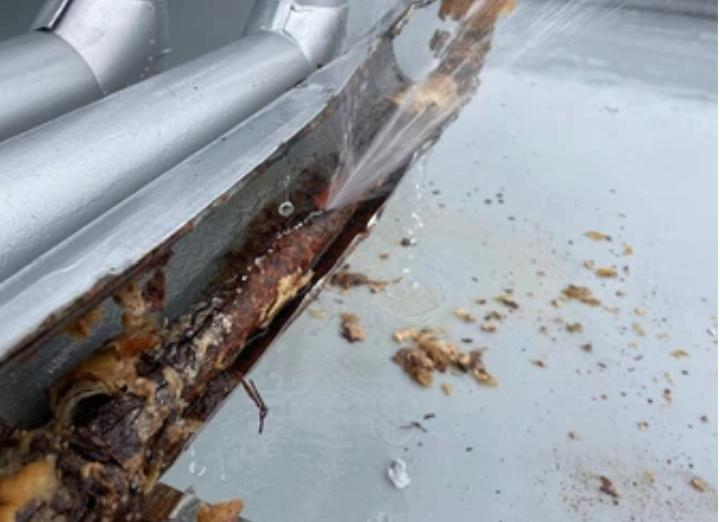pipe burst: (318, 0, 611, 213)
water accumulation: (155, 0, 720, 520)
